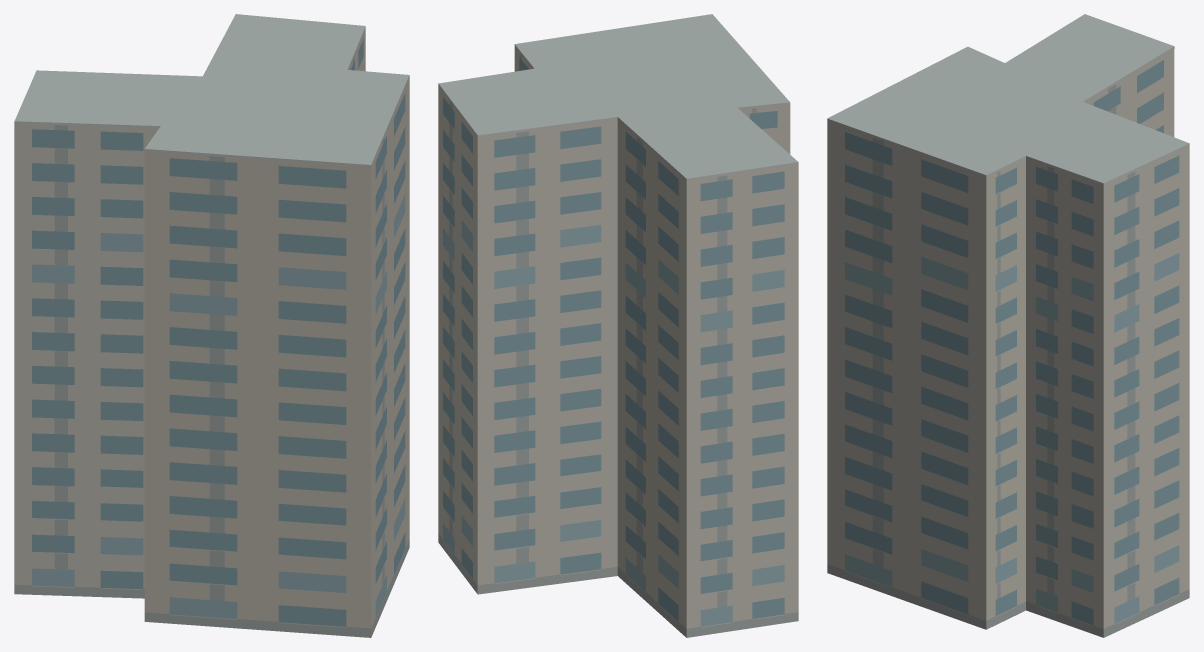
The model's file is residential-cb2f6f8b-3db7-4de9-ba46-af6c8239ff35.glb.
3 renders of one model, left to right at view 1: azimuth 30°, elevation 25°; view 2: azimuth 150°, elevation 25°; view 3: azimuth 270°, elevation 25°, orthographic. The views are drawn at different scales.
Parts seen in each view (by area): view 1: residential-cb2f6f8b-3db7-4de9-ba46-af6c8239ff35.tmp; view 2: residential-cb2f6f8b-3db7-4de9-ba46-af6c8239ff35.tmp; view 3: residential-cb2f6f8b-3db7-4de9-ba46-af6c8239ff35.tmp.
Boxes of the visible parts, x1,y1,x2,y2 form: residential-cb2f6f8b-3db7-4de9-ba46-af6c8239ff35.tmp: (14,14,409,637); residential-cb2f6f8b-3db7-4de9-ba46-af6c8239ff35.tmp: (438,14,798,637); residential-cb2f6f8b-3db7-4de9-ba46-af6c8239ff35.tmp: (827,14,1189,637).
Size of the model in its own units: 33.57 by 42 by 30.37.
